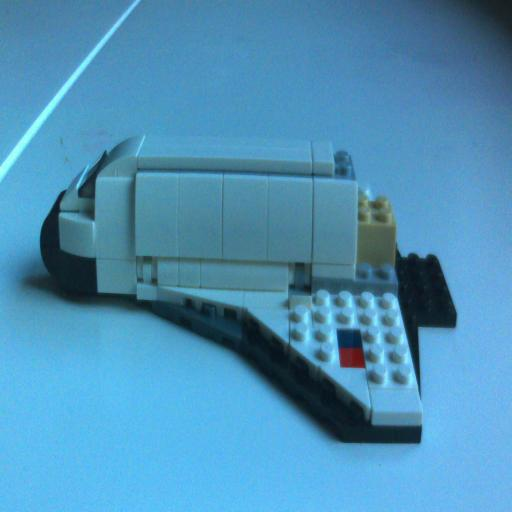defect_missingpiece: (331, 62, 455, 326)
